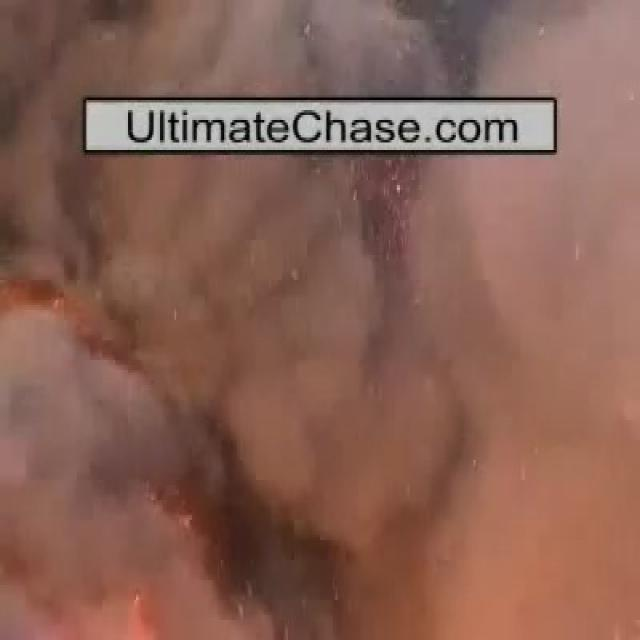smoke: (8, 164, 607, 585), (63, 8, 502, 87)
